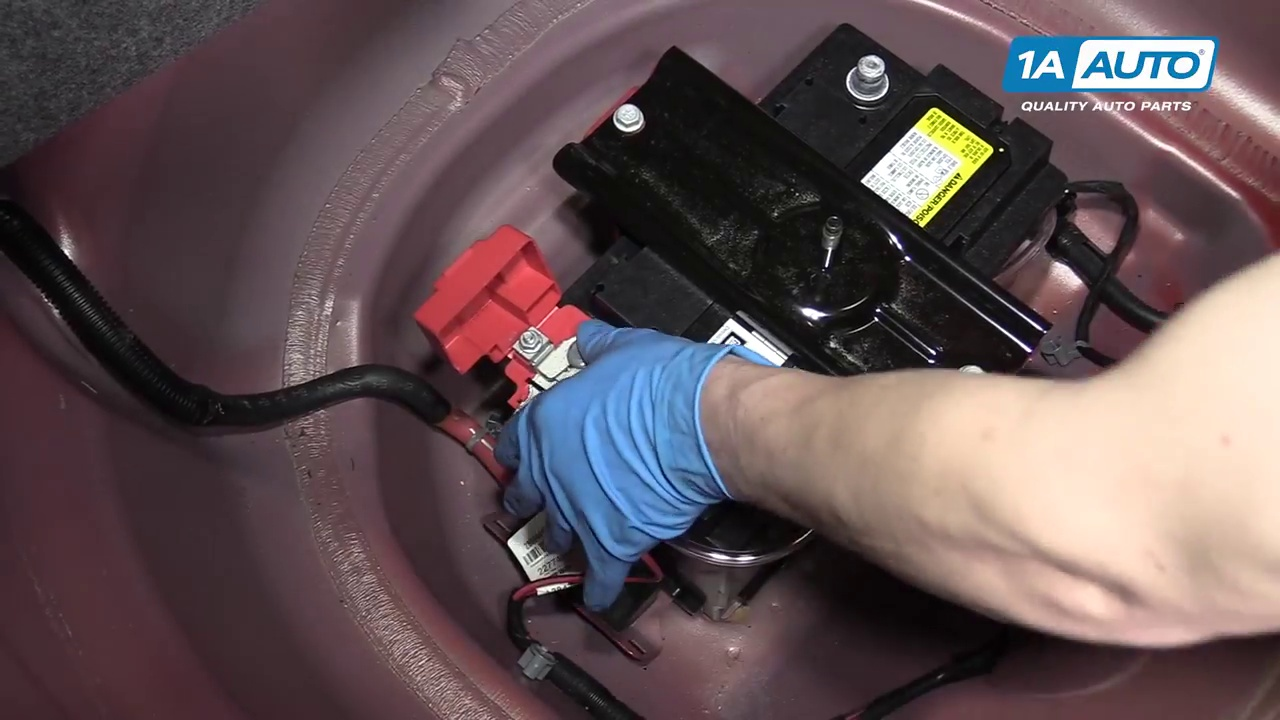battery: (494, 29, 1049, 516)
neg_disconnected: (823, 45, 913, 117)
pos_touched: (426, 223, 638, 500)
